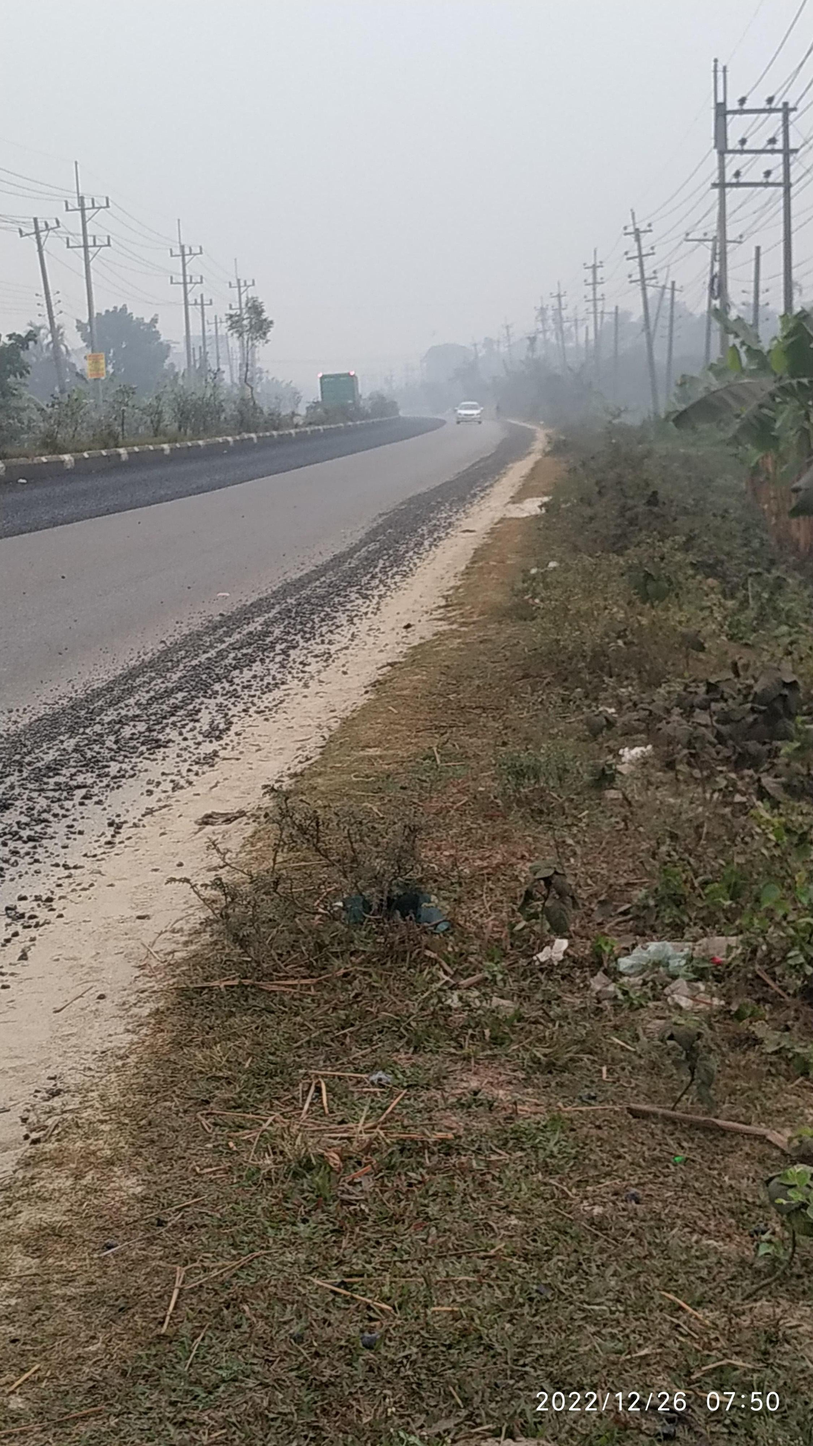Car: (439, 385, 494, 441)
Truck: (310, 355, 373, 423)
